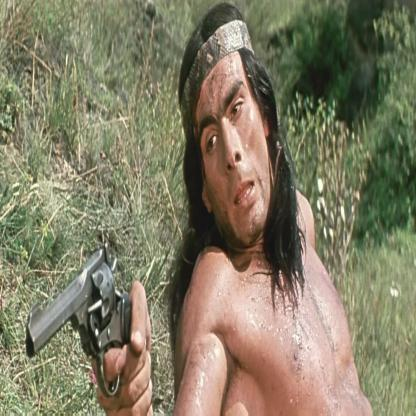gun: (13, 249, 145, 415)
